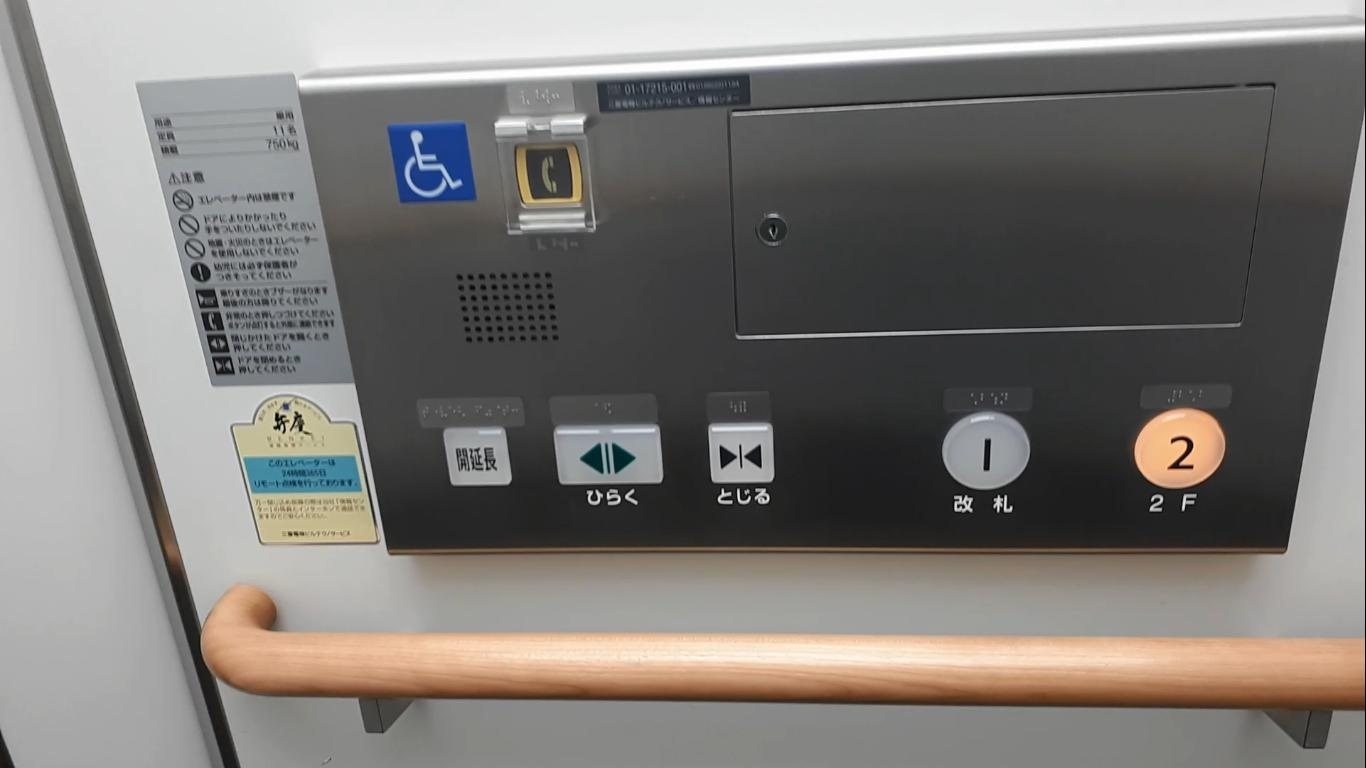1: (939, 407, 1032, 491)
2: (1129, 404, 1229, 490)
CH: (386, 113, 480, 213)
call: (509, 137, 585, 212)
close: (705, 418, 778, 491)
keyhole: (753, 211, 792, 251)
open: (549, 420, 668, 491)
